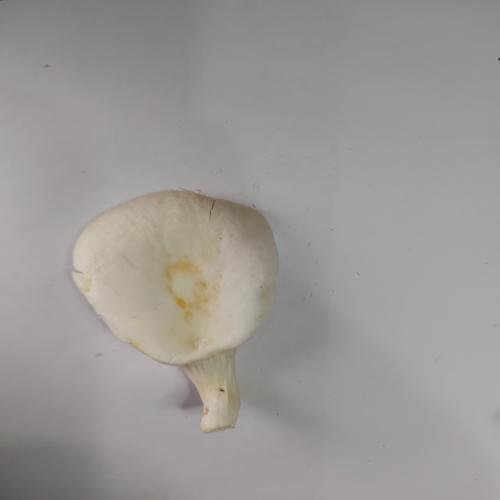Oyster Mushroom: (70, 189, 280, 434)
